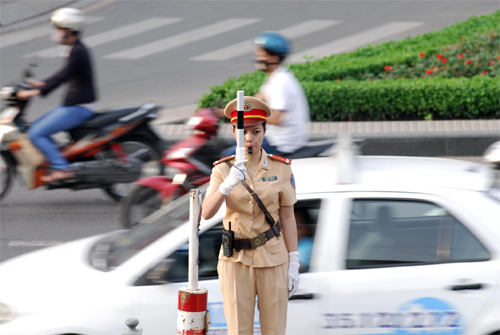police: (198, 90, 305, 333)
